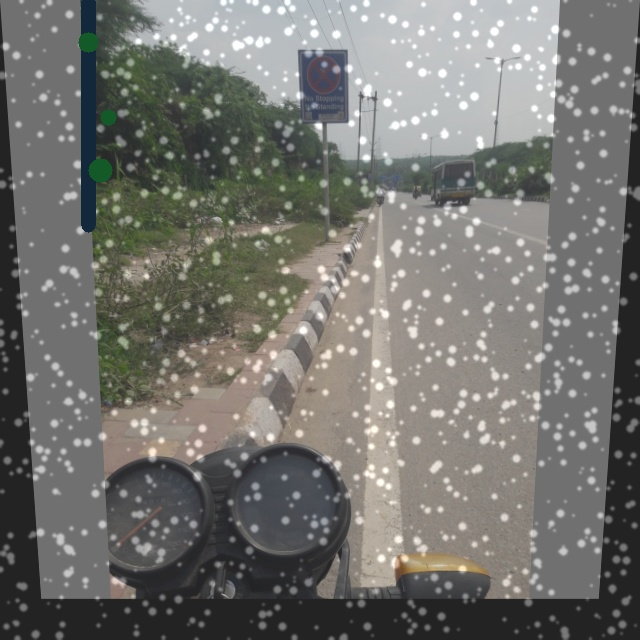No_Stopping_or_Standing: (300, 48, 345, 99)
